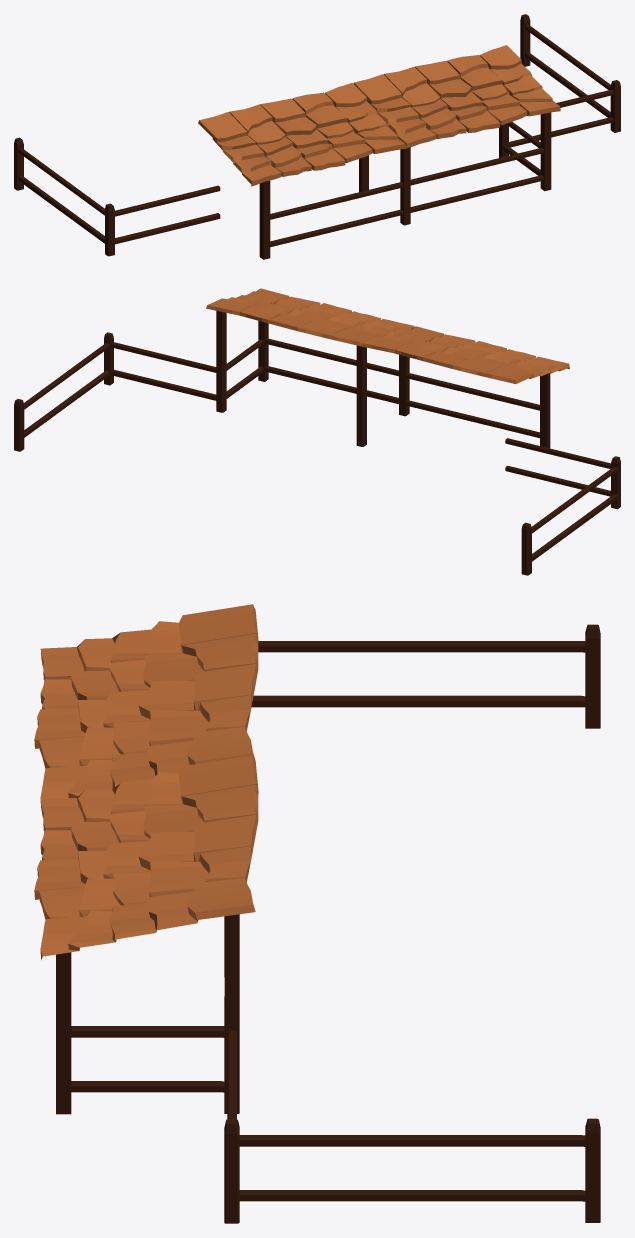
The model's file is ArcehrRange.fbx.
3 views of the same model, one above another, from view 1: azimuth 30°, elevation 25°; view 2: azimuth 150°, elevation 25°; view 3: azimuth 270°, elevation 25° (orthographic). The views are drawn at different scales.
Visible parts, largest first — view 1: ShootingRange; view 2: ShootingRange; view 3: ShootingRange.
Part boxes in pixels (left/top/right/bottom): ShootingRange: left=14, top=14, right=620, bottom=259; ShootingRange: left=14, top=288, right=620, bottom=575; ShootingRange: left=34, top=604, right=600, bottom=1223.
Bounding box in the file's own units: 194 × 38.83 × 92.51.
